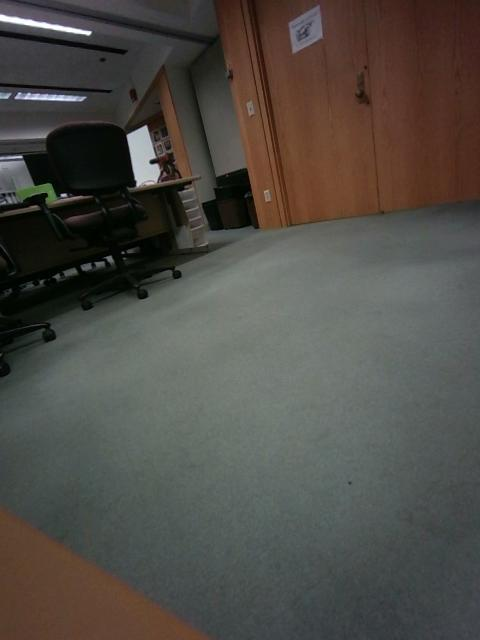block: (352, 291, 399, 358)
